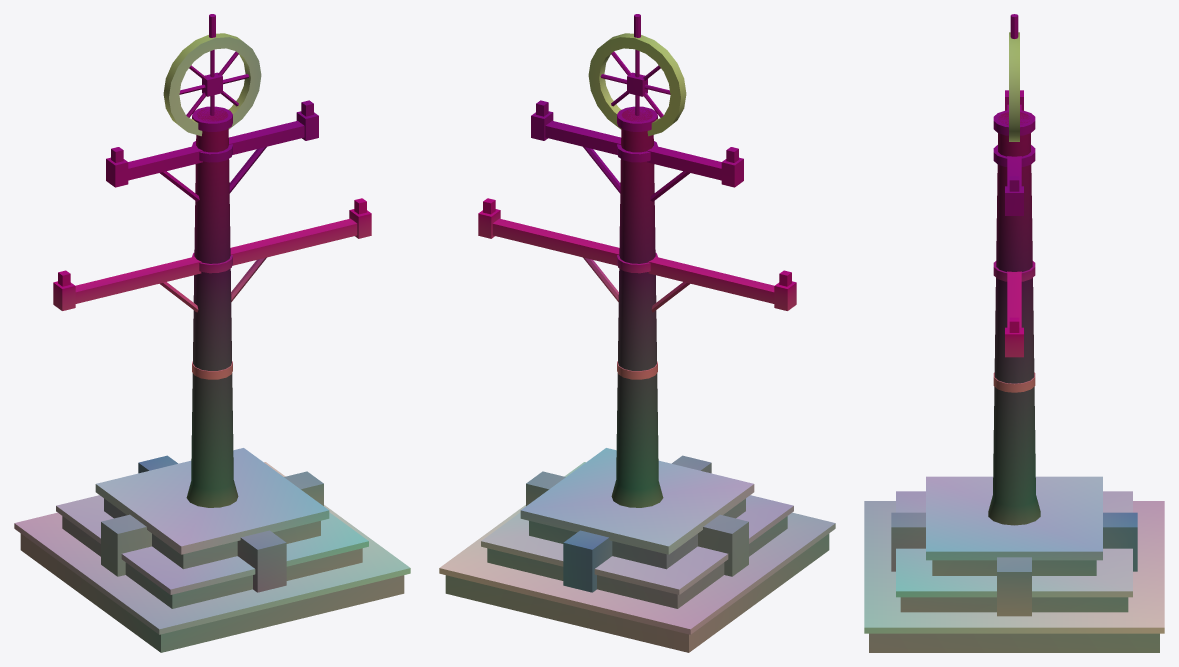
The model's file is great_perch.glb.
3 renders of one model, left to right at view 1: azimuth 30°, elevation 25°; view 2: azimuth 150°, elevation 25°; view 3: azimuth 270°, elevation 25°, orthographic. The views are drawn at different scales.
Parts seen in each view (by area): view 1: roost_base_trim, roost_base, roost_bars, roost_pole, roost_ring; view 2: roost_base_trim, roost_base, roost_bars, roost_pole, roost_ring; view 3: roost_base_trim, roost_base, roost_pole, roost_bars, roost_ring.
Boxes of the visible parts, box(x1,y1,x2,y2) form: roost_base_trim: box(14, 448, 410, 634); roost_base: box(20, 455, 404, 652); roost_bars: box(53, 14, 371, 379); roost_pole: box(186, 108, 238, 507); roost_ring: box(163, 33, 261, 136); roost_base_trim: box(439, 448, 835, 634); roost_base: box(445, 455, 829, 652); roost_bars: box(478, 14, 796, 379); roost_pole: box(611, 108, 663, 507); roost_ring: box(588, 33, 686, 136); roost_base_trim: box(864, 476, 1164, 633); roost_base: box(869, 512, 1159, 652); roost_pole: box(988, 112, 1040, 525); roost_bars: box(993, 14, 1035, 392); roost_ring: box(1009, 32, 1019, 141).
Size of the model in its own units: 2.34 by 4.02 by 1.9.
